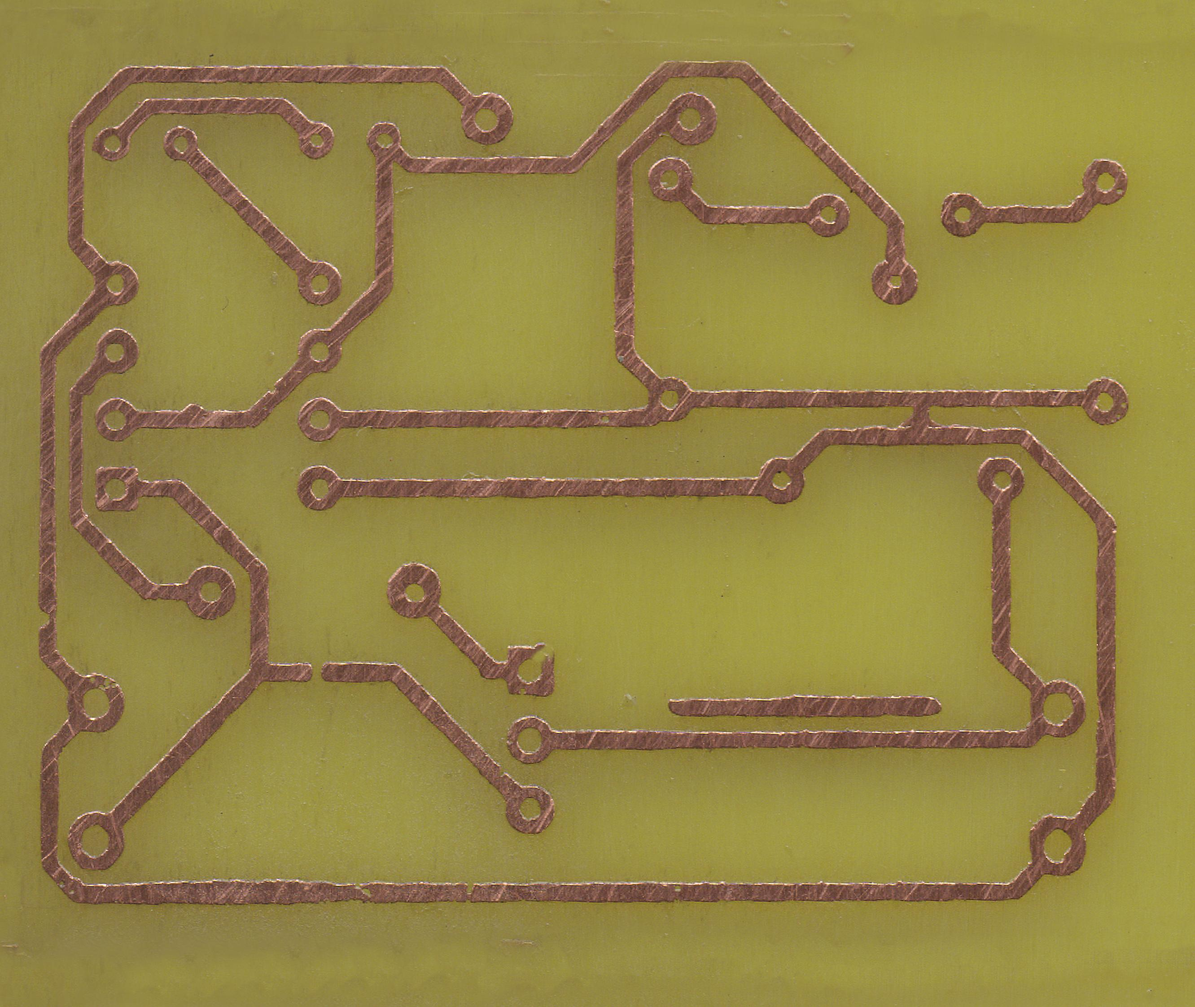missing_hole: (505, 642, 556, 697)
mouse_bite: (35, 599, 58, 640)
open_circuit: (298, 663, 336, 683)
short: (900, 389, 941, 445)
spur: (180, 401, 209, 428)
spurious_copper: (666, 692, 943, 721)
